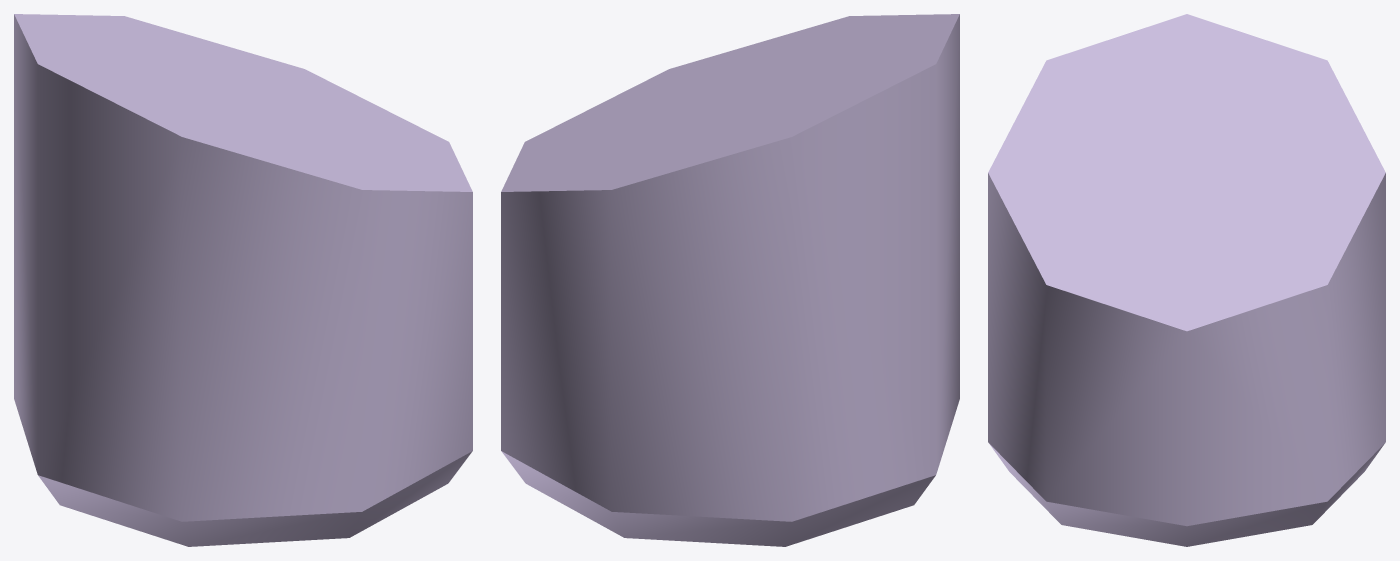
3 renders of one model, left to right at view 1: azimuth 30°, elevation 25°; view 2: azimuth 150°, elevation 25°; view 3: azimuth 270°, elevation 25°, orthographic. The views are drawn at different scales.
Parts seen in each view (by area): view 1: Object15; view 2: Object15; view 3: Object15.
Boxes of the visible parts, left/top/right/bottom form: Object15: left=14, top=14, right=472, bottom=546; Object15: left=501, top=14, right=959, bottom=546; Object15: left=988, top=14, right=1385, bottom=546.
Size of the model in its own units: 95.73 by 99.28 by 95.73.
